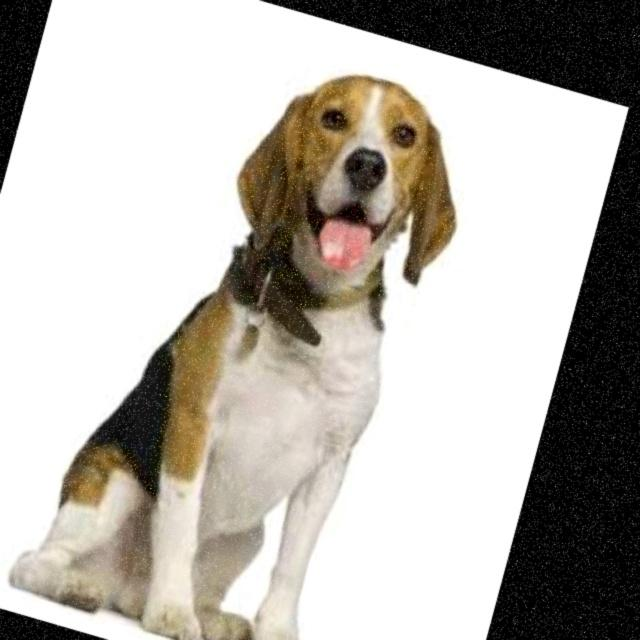dog: (2, 0, 527, 640), (443, 117, 625, 640), (0, 0, 69, 580)
